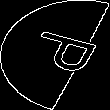P_E: (12, 28, 98, 82)
